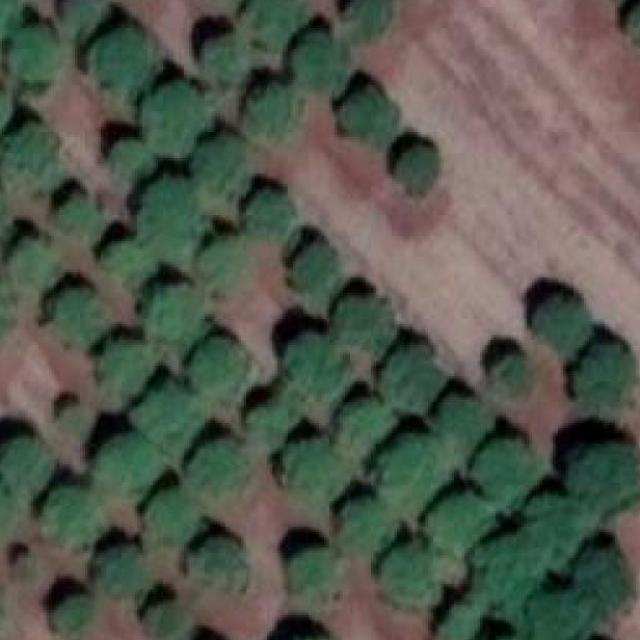Tree: (140, 85, 219, 157), (184, 431, 257, 504), (568, 442, 640, 513), (137, 181, 209, 248), (475, 537, 539, 606), (334, 385, 392, 457), (371, 442, 436, 506), (85, 23, 152, 85), (574, 544, 632, 615), (380, 345, 442, 411), (187, 337, 248, 404), (376, 545, 439, 609), (571, 340, 634, 403), (10, 26, 72, 89), (42, 485, 104, 548), (139, 496, 210, 550), (283, 444, 346, 504), (537, 291, 594, 356), (530, 490, 587, 554), (139, 291, 206, 345), (93, 438, 156, 494), (436, 493, 494, 552), (480, 438, 533, 502), (280, 332, 338, 390), (431, 392, 487, 450), (2, 124, 62, 178), (0, 441, 60, 495), (140, 384, 197, 440), (184, 140, 243, 194), (282, 550, 338, 606), (522, 591, 586, 640), (241, 88, 296, 144), (293, 36, 346, 94), (198, 548, 250, 606), (46, 288, 100, 342), (106, 135, 158, 190), (334, 501, 390, 552), (241, 0, 305, 44), (192, 234, 244, 288), (94, 548, 144, 604), (334, 85, 386, 138), (239, 192, 293, 243), (2, 233, 56, 284), (382, 137, 434, 189), (202, 34, 250, 88), (339, 302, 388, 352), (100, 236, 150, 285), (49, 176, 94, 228), (101, 343, 146, 395), (52, 594, 101, 640), (490, 350, 535, 399), (288, 236, 332, 286), (340, 0, 392, 42), (249, 395, 290, 447), (54, 0, 108, 38), (141, 597, 184, 640), (433, 604, 477, 640), (625, 0, 640, 47), (267, 634, 335, 640)
